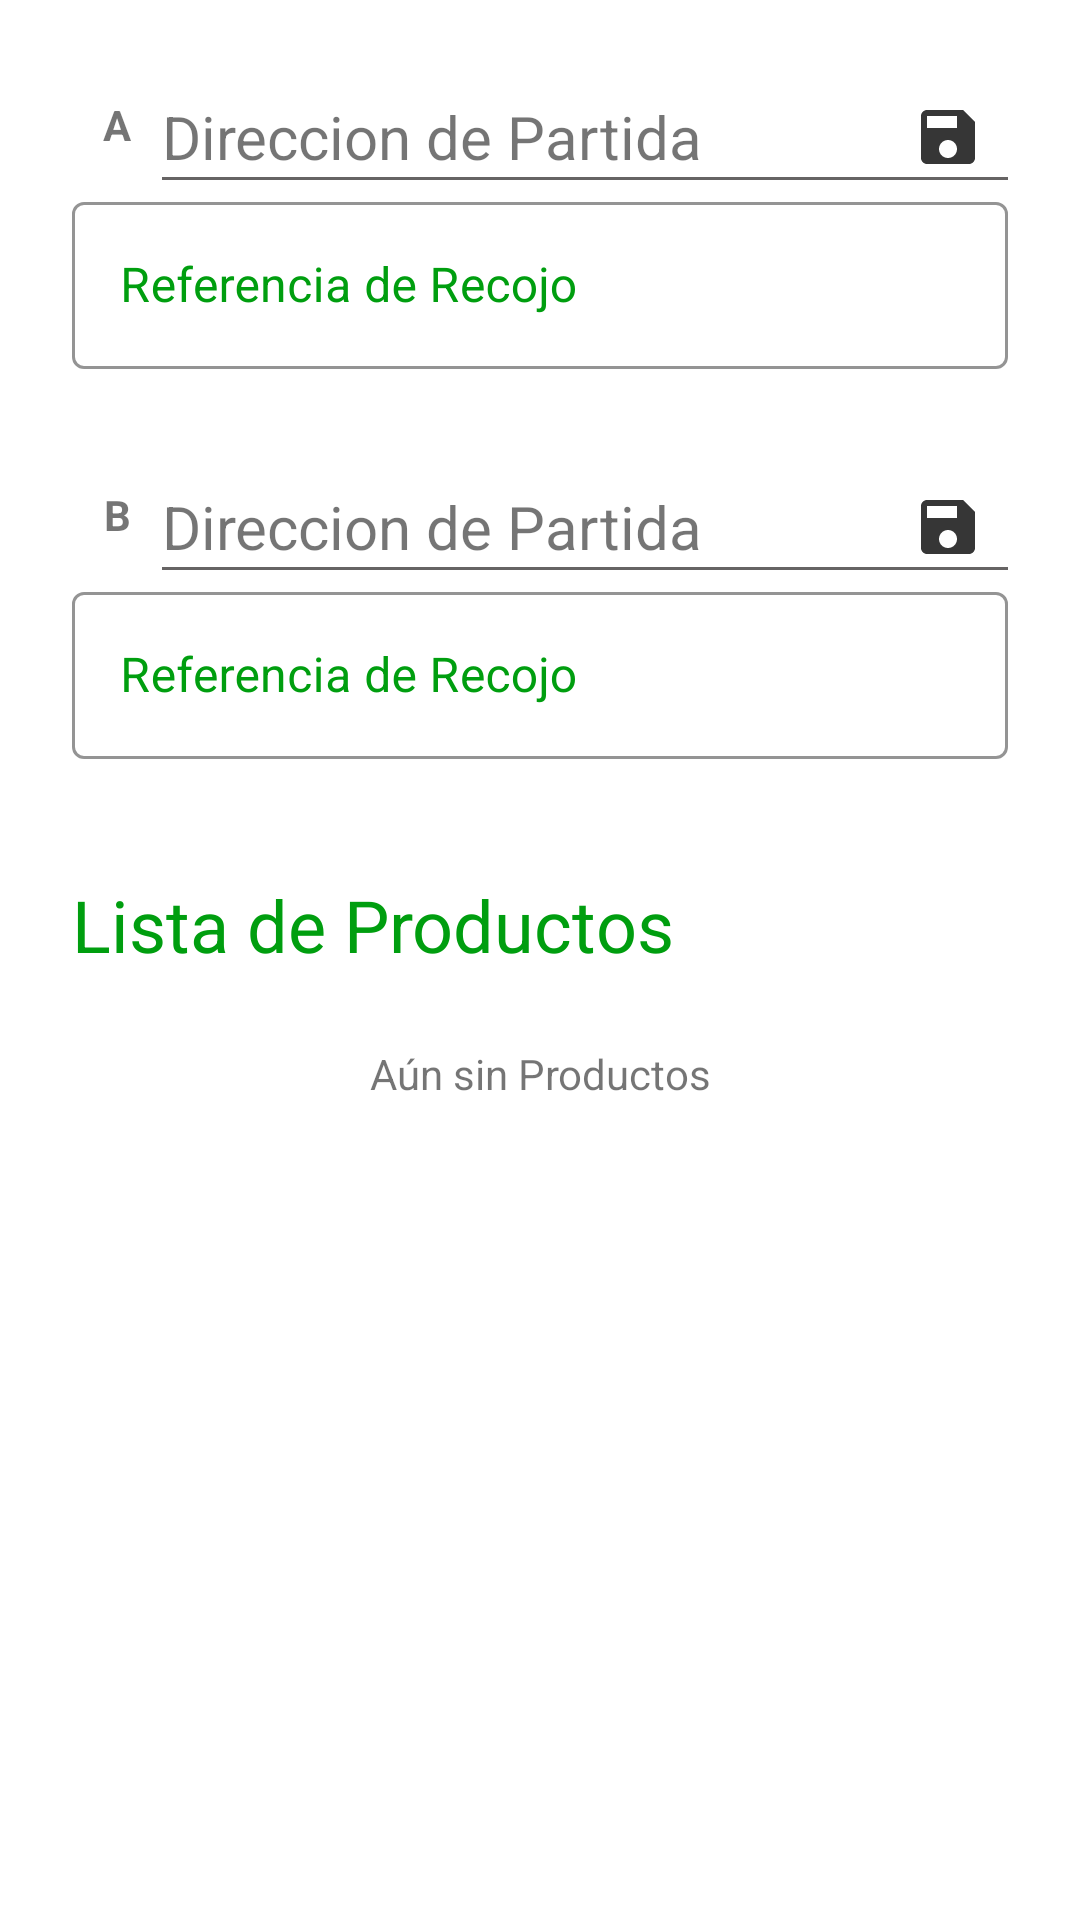

Where icons sit on this 1080x1920 app screen, as (x1, y1, x2, y2):
save: (921, 110, 975, 164), (921, 500, 975, 554)
